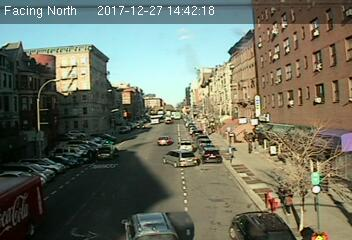car: (230, 209, 300, 240), (120, 212, 180, 240), (163, 150, 199, 168), (96, 144, 117, 159), (202, 148, 222, 161), (178, 139, 194, 151), (157, 134, 171, 145)
